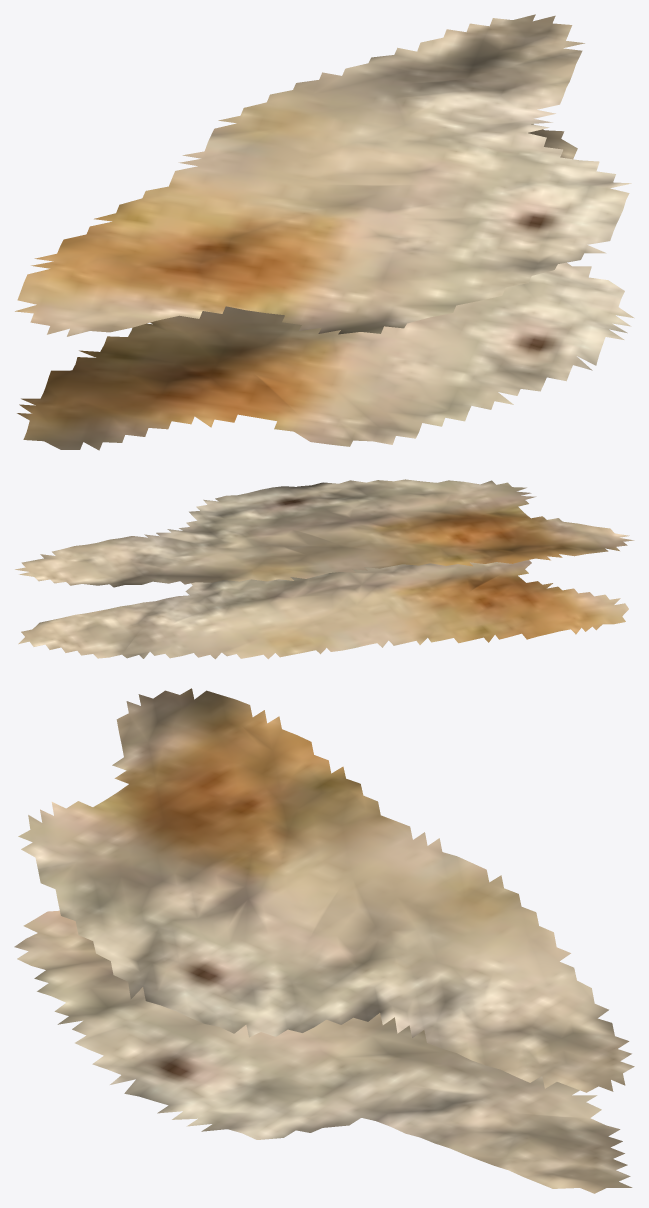
Rendered from beef-2.glb.
3 renders of one model, top to bottom at view 1: azimuth 30°, elevation 25°; view 2: azimuth 150°, elevation 25°; view 3: azimuth 270°, elevation 25°, orthographic. The views are drawn at different scales.
Parts seen in each view (by area): view 1: fetta di pollo_Default OBJ_0; view 2: fetta di pollo_Default OBJ_0; view 3: fetta di pollo_Default OBJ_0.
Boxes of the visible parts, x1,y1,x2,y2 form: fetta di pollo_Default OBJ_0: [15, 14, 634, 450]; fetta di pollo_Default OBJ_0: [15, 479, 634, 659]; fetta di pollo_Default OBJ_0: [14, 688, 634, 1193].
Bounding box in the file's own units: 0.04 × 0.00834 × 0.0296.
1 material, 1 textured.
